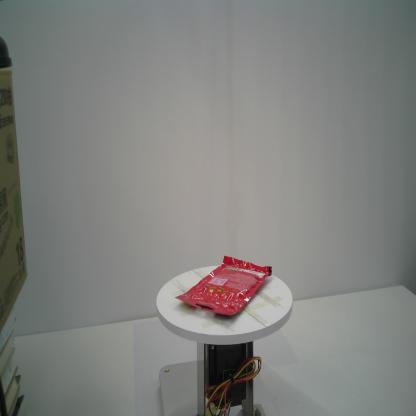Candy: (174, 254, 273, 316)
